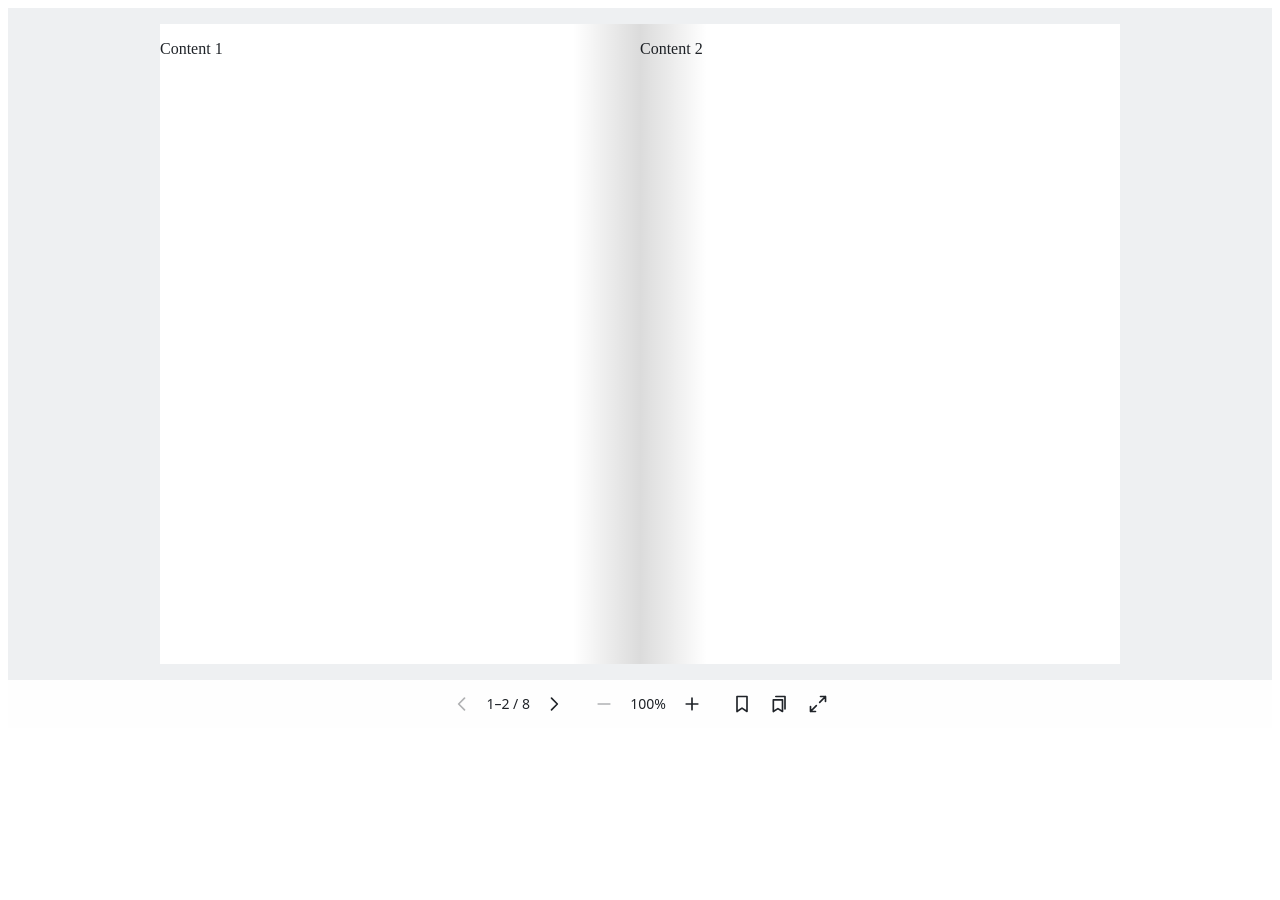
Test: bookmarking the current page › toggles with the toolbar button, shows a ribbon and says what happened
The image size is (1280, 900).
Click the button named "Bookmark this page" at [742, 704], box left=724, top=686, right=760, bottom=722
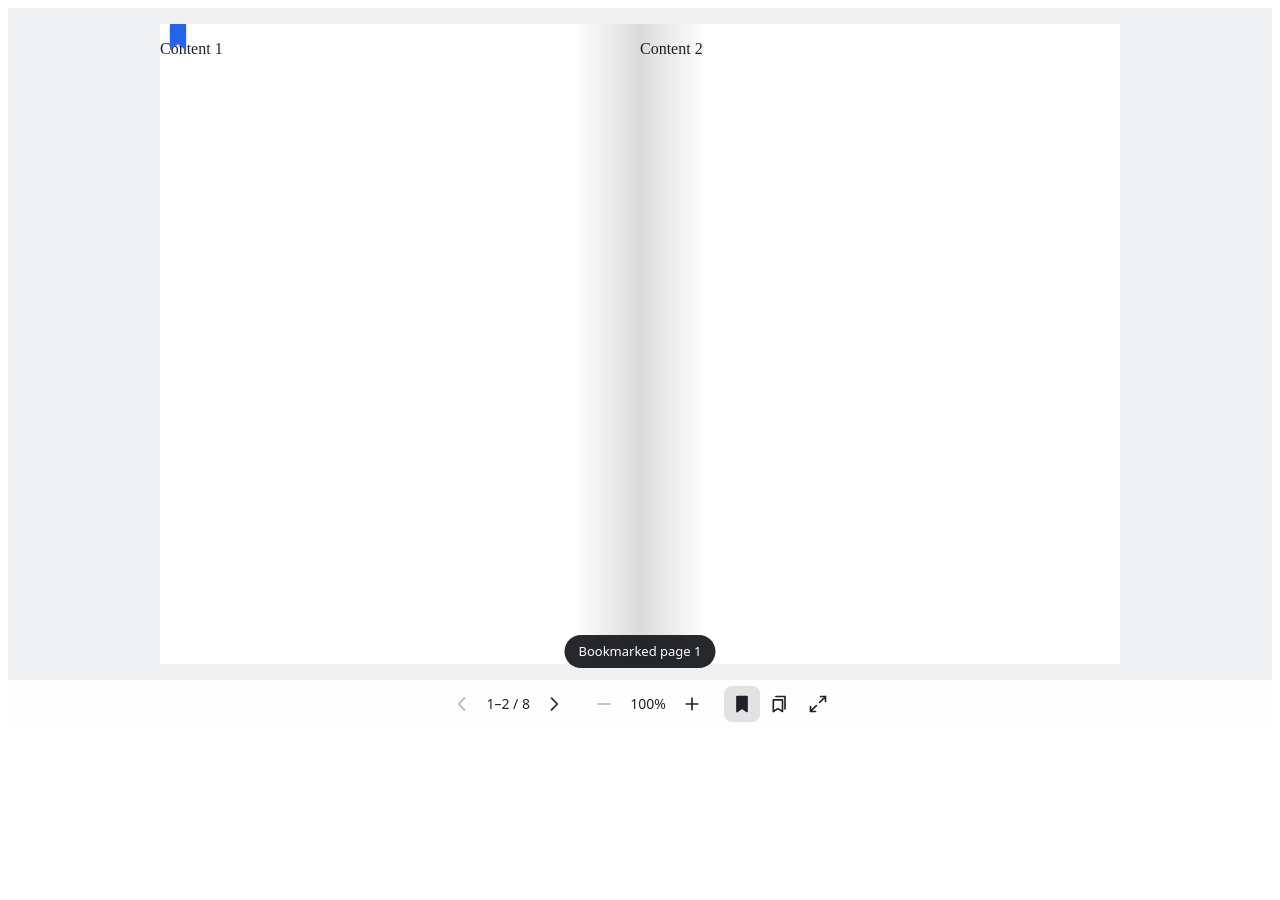
Result: the message "Bookmarked page 1" is shown at left=564, top=635, right=716, bottom=668
Click the button named "Remove bookmark" at [742, 704], box left=724, top=686, right=760, bottom=722
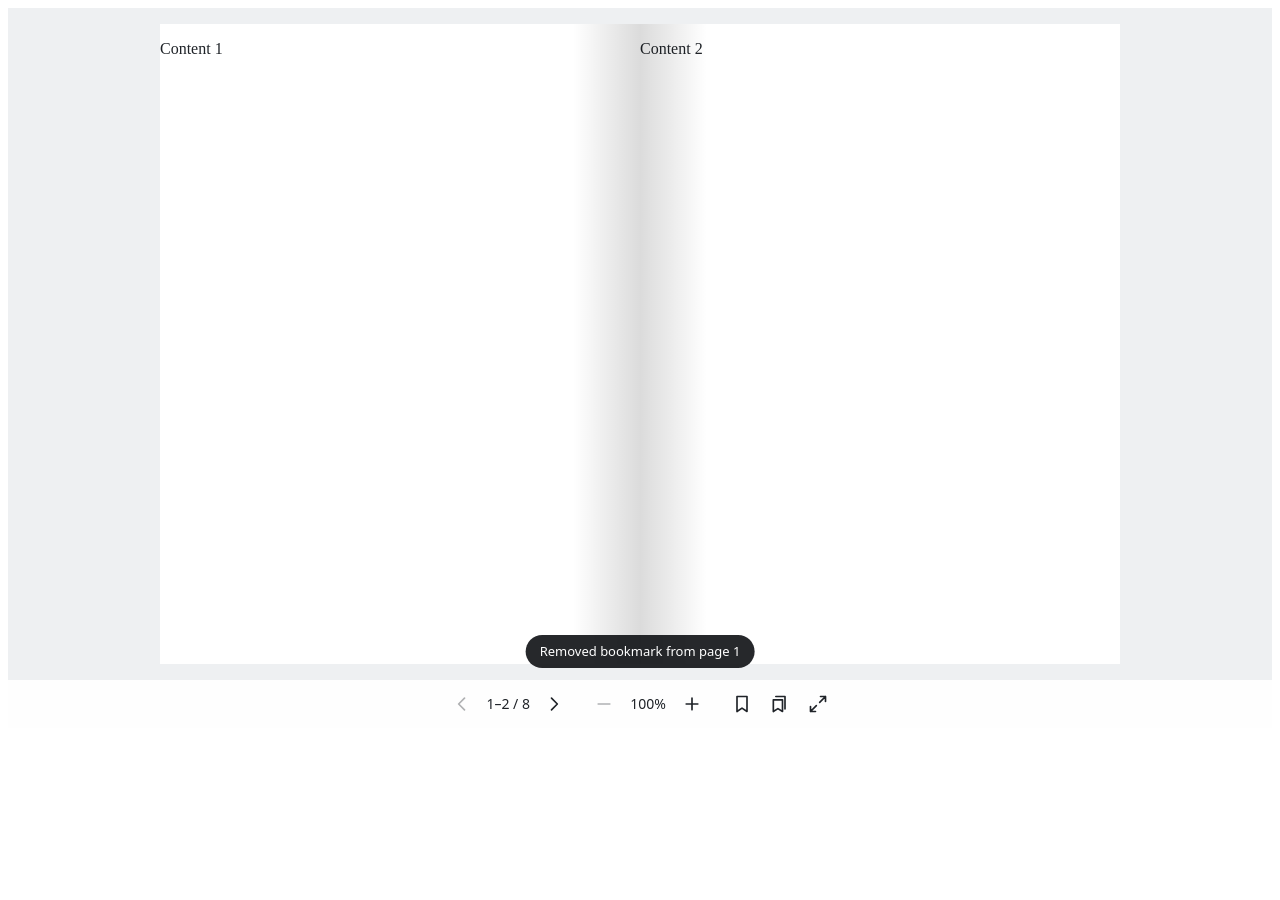
Result: the message "Removed bookmark from page 1" is shown at left=526, top=635, right=754, bottom=668
